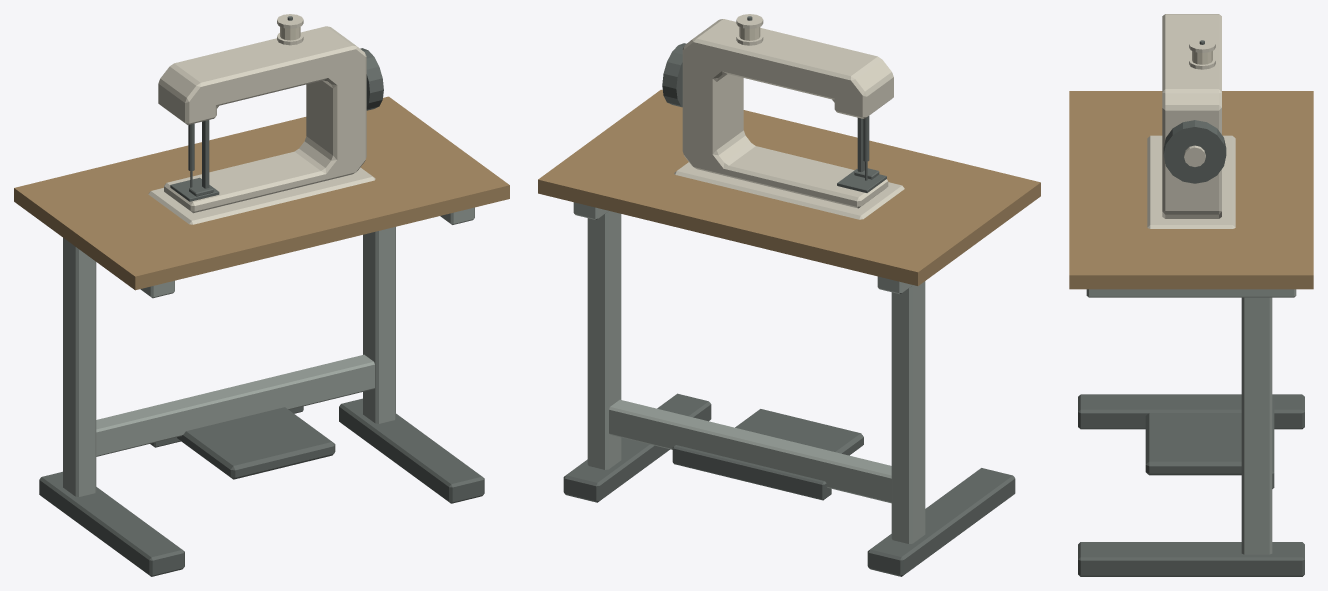
3 renders of one model, left to right at view 1: azimuth 30°, elevation 25°; view 2: azimuth 150°, elevation 25°; view 3: azimuth 270°, elevation 25°, orthographic.
Visible parts, largest first — view 1: Continuous worktop with machine bed aperture, Continuous C arm and column, Rear lower frame brace, Table upright -0.40, Fixed foot treadle, Table upright 0.40, Long stable workstation foot -0.40, Long stable workstation foot 0.40, Recessed machine bed, Fixed handwheel; view 2: Continuous worktop with machine bed aperture, Continuous C arm and column, Rear lower frame brace, Table upright -0.40, Table upright 0.40, Long stable workstation foot -0.40, Long stable workstation foot 0.40, Treadle axle support, Fixed foot treadle, Recessed machine bed, Fixed handwheel; view 3: Continuous worktop with machine bed aperture, Continuous C arm and column, Table upright 0.40, Long stable workstation foot 0.40, Fixed foot treadle, Long stable workstation foot -0.40, Recessed machine bed, Fixed handwheel, Upper side table rail 0.40, Handwheel central boss, Spool upper flange.
Part boxes in pixels (bbox=[...]): Continuous worktop with machine bed aperture: bbox=[14, 96, 509, 290]; Continuous C arm and column: bbox=[158, 26, 366, 213]; Rear lower frame brace: bbox=[96, 354, 374, 456]; Table upright -0.40: bbox=[63, 238, 96, 496]; Fixed foot treadle: bbox=[177, 407, 335, 479]; Table upright 0.40: bbox=[363, 227, 395, 423]; Long stable workstation foot -0.40: bbox=[39, 471, 184, 576]; Long stable workstation foot 0.40: bbox=[339, 398, 484, 503]; Recessed machine bed: bbox=[148, 167, 375, 224]; Fixed handwheel: bbox=[360, 48, 383, 110]; Continuous worktop with machine bed aperture: bbox=[538, 89, 1040, 285]; Continuous C arm and column: bbox=[682, 19, 893, 208]; Rear lower frame brace: bbox=[609, 399, 891, 503]; Table upright -0.40: bbox=[891, 281, 925, 543]; Table upright 0.40: bbox=[587, 211, 621, 469]; Long stable workstation foot -0.40: bbox=[867, 468, 1015, 576]; Long stable workstation foot 0.40: bbox=[563, 393, 711, 502]; Treadle axle support: bbox=[672, 445, 831, 500]; Fixed foot treadle: bbox=[735, 409, 863, 455]; Recessed machine bed: bbox=[674, 162, 904, 219]; Fixed handwheel: bbox=[662, 43, 686, 107]; Continuous worktop with machine bed aperture: bbox=[1069, 91, 1313, 289]; Continuous C arm and column: bbox=[1162, 14, 1221, 218]; Table upright 0.40: bbox=[1241, 297, 1272, 554]; Long stable workstation foot 0.40: bbox=[1078, 542, 1304, 576]; Fixed foot treadle: bbox=[1145, 413, 1241, 475]; Long stable workstation foot -0.40: bbox=[1078, 394, 1304, 429]; Recessed machine bed: bbox=[1147, 135, 1235, 228]; Fixed handwheel: bbox=[1163, 120, 1226, 183]; Upper side table rail 0.40: bbox=[1086, 289, 1296, 297]; Handwheel central boss: bbox=[1184, 145, 1205, 166]; Spool upper flange: bbox=[1189, 38, 1215, 52].
Bounding box in the file's own units: 1 × 1.19 × 0.56.
